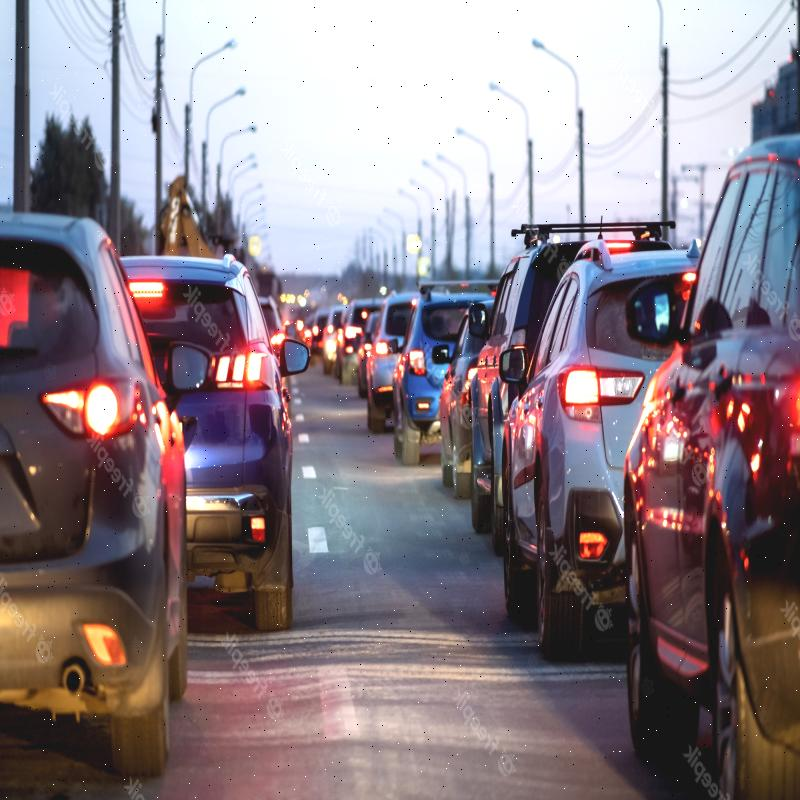car: (617, 100, 800, 795), (0, 176, 188, 798), (481, 254, 717, 618), (116, 238, 282, 640), (412, 263, 497, 485)
